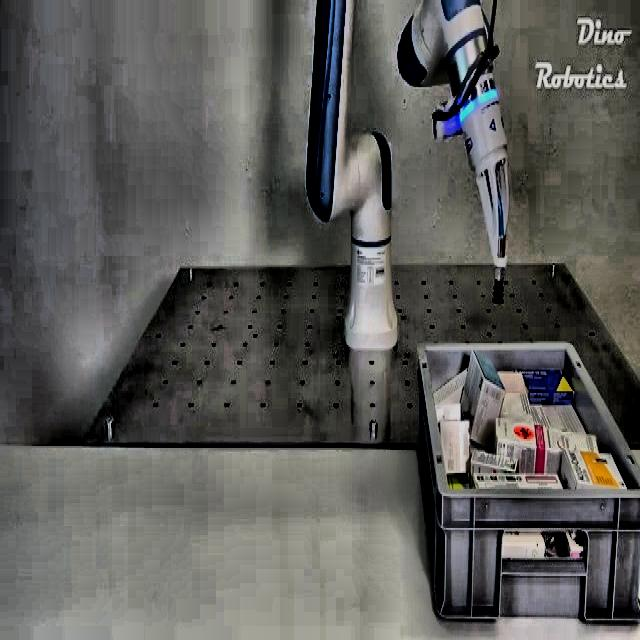robot: (305, 0, 510, 350)
